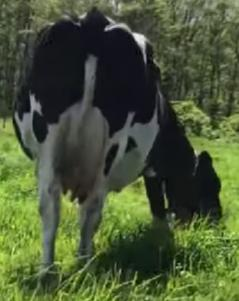cow: (11, 5, 223, 279)
